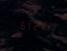four: (39, 20, 45, 31)
one: (25, 19, 31, 30)
six: (18, 18, 24, 30)
two: (32, 19, 38, 31)
